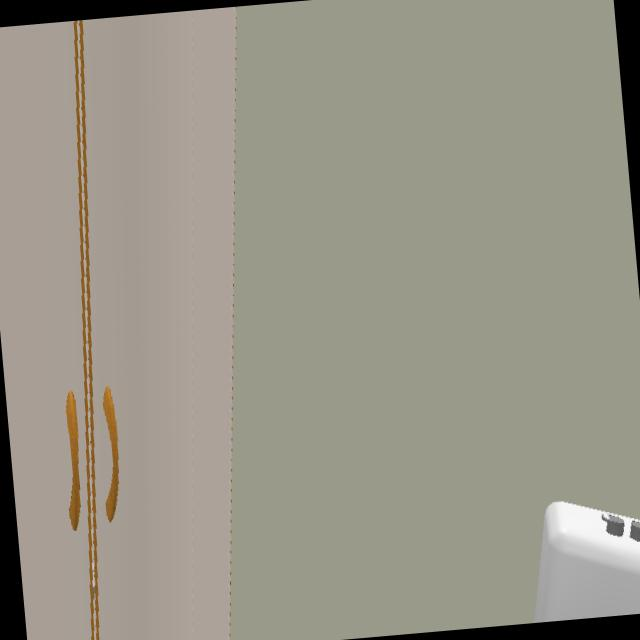shower: (0, 4, 266, 640)
toilet: (533, 502, 640, 623)
